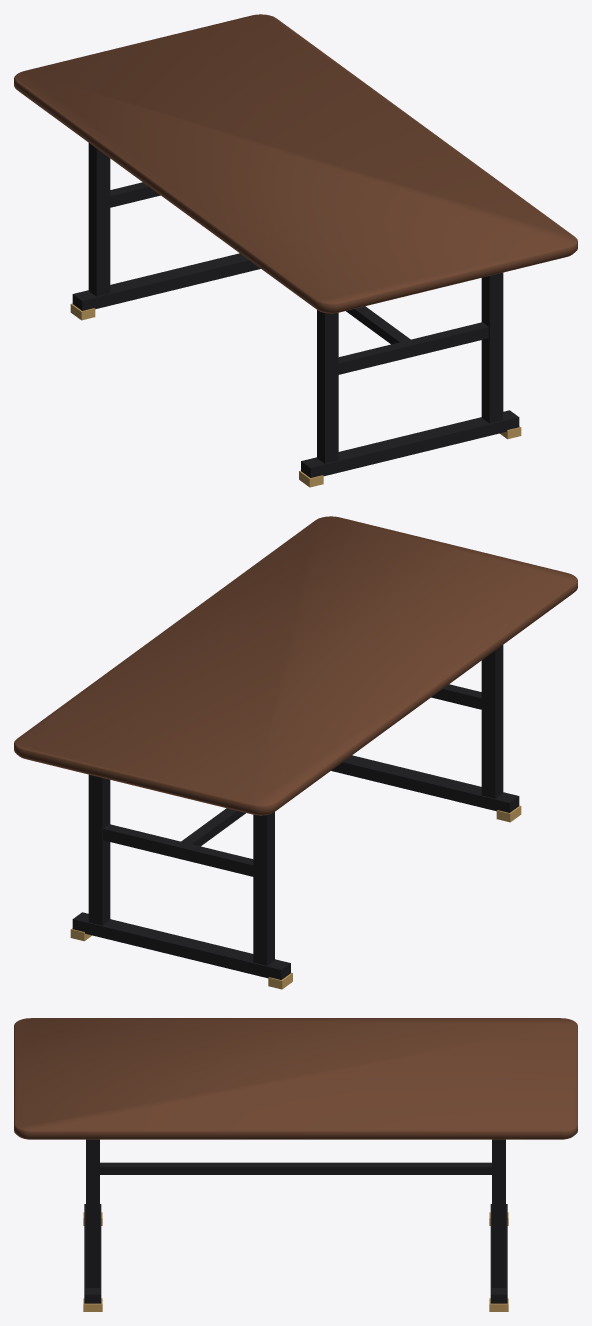
File: dining_table.glb
3 renders of one model, top to bottom at view 1: azimuth 30°, elevation 25°; view 2: azimuth 150°, elevation 25°; view 3: azimuth 270°, elevation 25°, orthographic. The views are drawn at different scales.
Visible parts, largest first — view 1: Top_LOD0, Foot_LOD0, Foot_LOD0.001, Post_LOD0.002, Post_LOD0, Post_LOD0.001, Rail_LOD0, Stretcher_LOD0, Rail_LOD0.001; view 2: Top_LOD0, Foot_LOD0.001, Foot_LOD0, Post_LOD0, Post_LOD0.002, Post_LOD0.003, Rail_LOD0.001, Stretcher_LOD0, Rail_LOD0; view 3: Top_LOD0, Stretcher_LOD0, Post_LOD0.001, Post_LOD0.003, Foot_LOD0, Foot_LOD0.001.
Boxes of the visible parts, box(x1,y1,x2,y2) form: Top_LOD0: box(14, 14, 577, 313); Foot_LOD0: box(301, 410, 519, 477); Foot_LOD0.001: box(72, 253, 260, 310); Post_LOD0.002: box(88, 143, 110, 296); Post_LOD0: box(317, 310, 338, 463); Post_LOD0.001: box(481, 272, 503, 423); Rail_LOD0: box(338, 322, 488, 374); Stretcher_LOD0: box(346, 306, 410, 344); Rail_LOD0.001: box(110, 182, 160, 207); Top_LOD0: box(14, 516, 577, 815); Foot_LOD0.001: box(72, 912, 290, 979); Foot_LOD0: box(331, 755, 519, 812); Post_LOD0: box(481, 645, 503, 798); Post_LOD0.002: box(253, 812, 274, 965); Post_LOD0.003: box(88, 774, 110, 925); Rail_LOD0.001: box(103, 824, 253, 876); Stretcher_LOD0: box(181, 808, 245, 846); Rail_LOD0: box(431, 684, 481, 709); Top_LOD0: box(14, 1018, 577, 1139); Stretcher_LOD0: box(100, 1162, 491, 1174); Post_LOD0.001: box(86, 1139, 99, 1287); Post_LOD0.003: box(492, 1139, 505, 1287); Foot_LOD0: box(84, 1204, 101, 1303); Foot_LOD0.001: box(490, 1204, 507, 1303).
Size of the model in its own units: 0.95 by 0.75 by 2.
